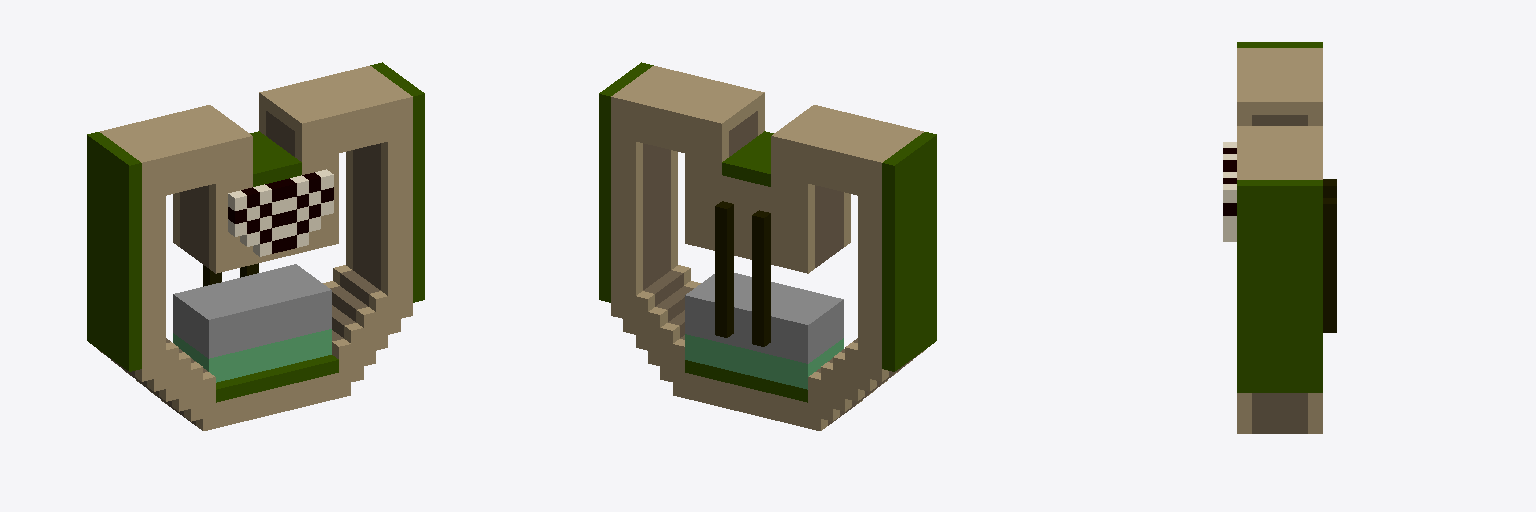
3 views of the same model, side by side, from view 1: azimuth 30°, elevation 25°; view 2: azimuth 150°, elevation 25°; view 3: azimuth 270°, elevation 25° (orthographic).
Size of the model in its own units: 24 by 22 by 8.
1 materials, 1 textured.